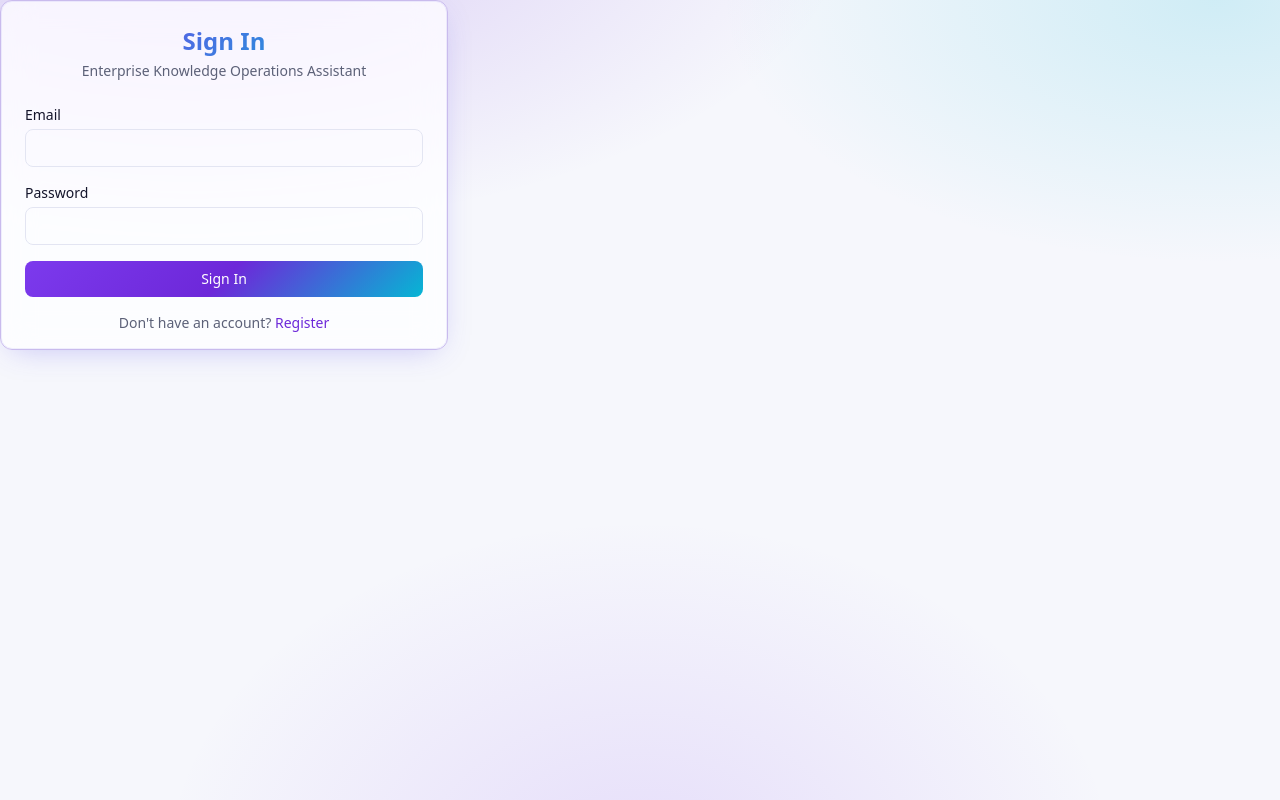
Test case: LoginForm › shows an email format error for an invalid email
This screenshot has width=1280, height=800.
Type "not-an-email" into the field labelled "Email" at (224, 148), box 25,129 -> 423,167
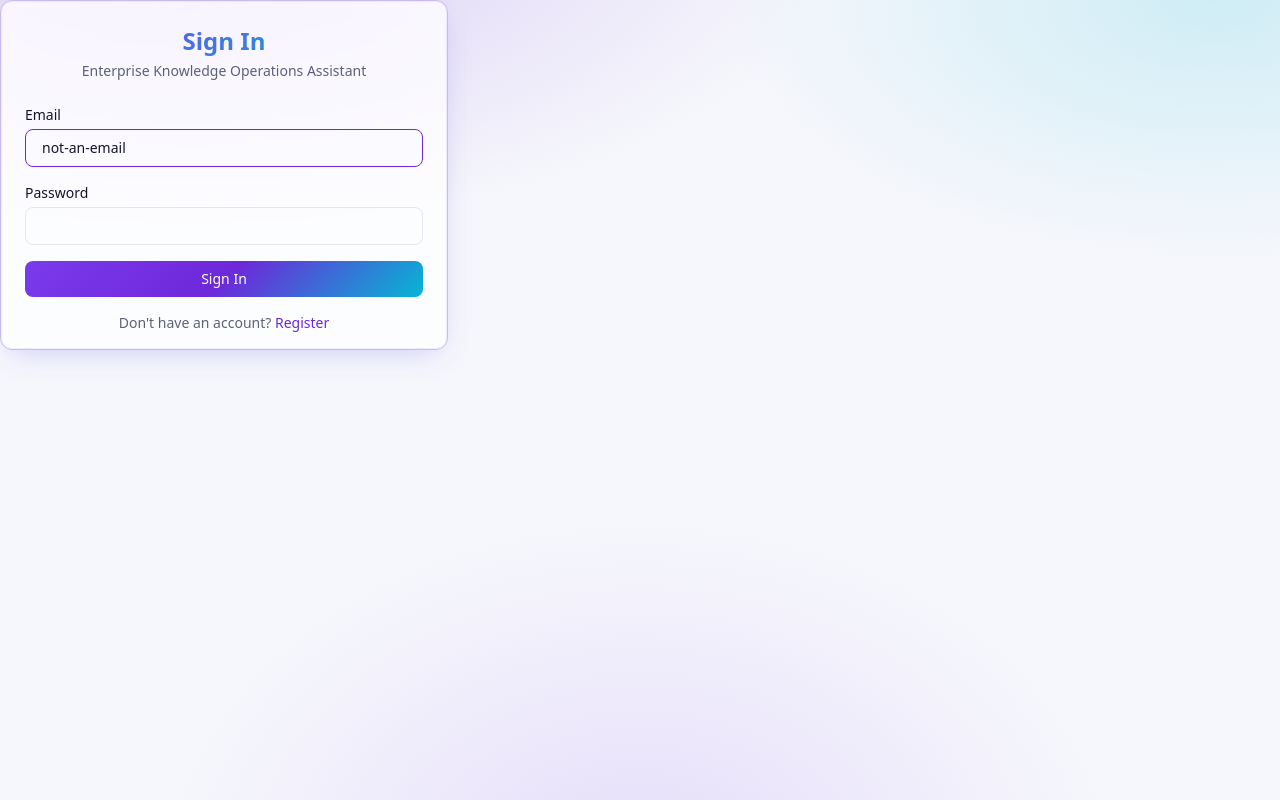
Type "hunter2hunter" into the password field labelled "Password" at (224, 226), box 25,207 -> 423,245
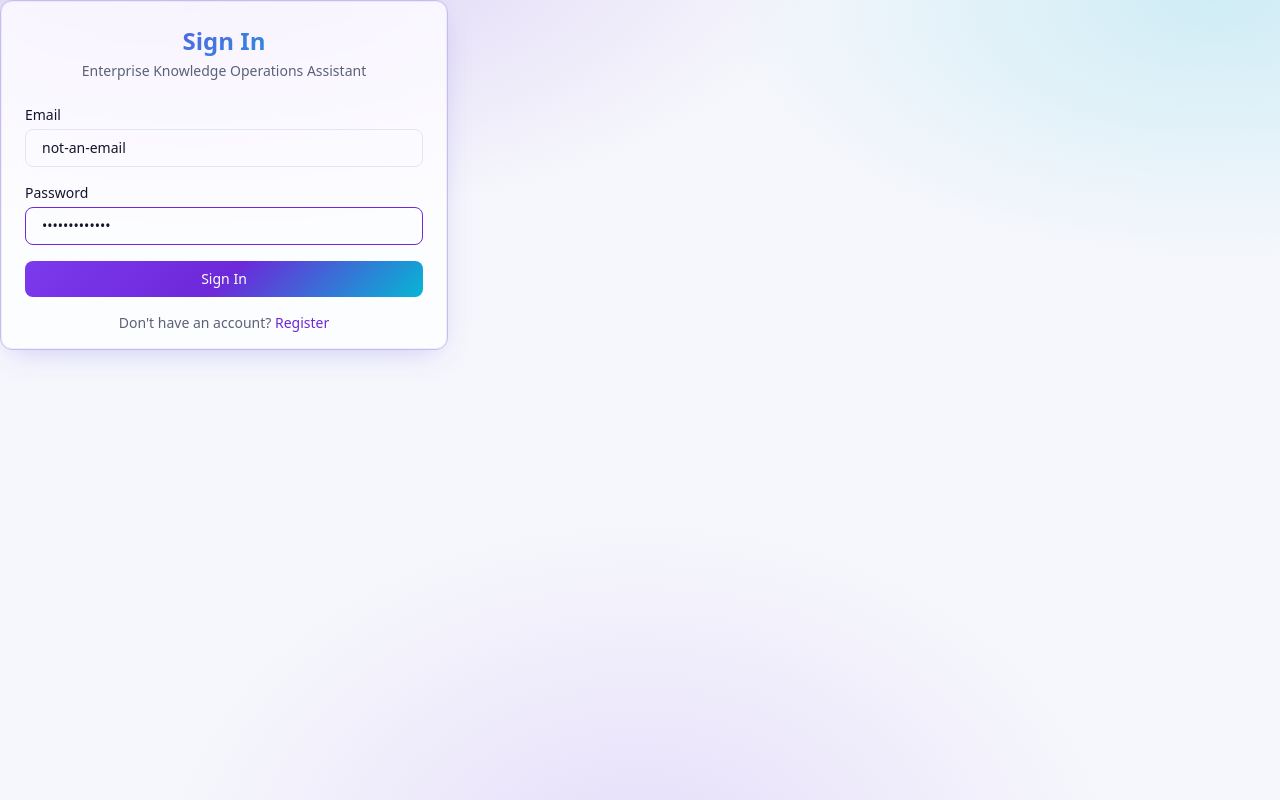
Click the button "Sign In" at (224, 279), box 25,261 -> 423,297
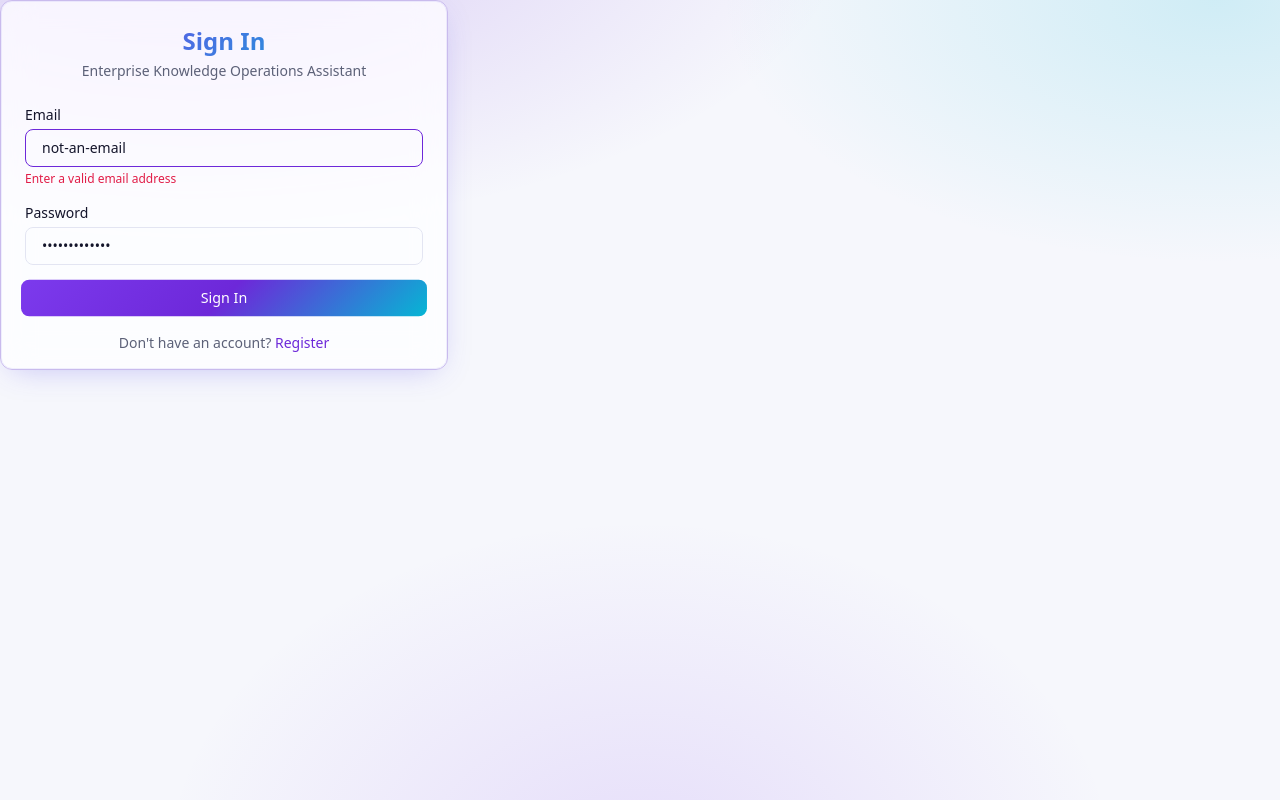
Expected: the text "Enter a valid email address" is shown, 25,170 -> 176,187
